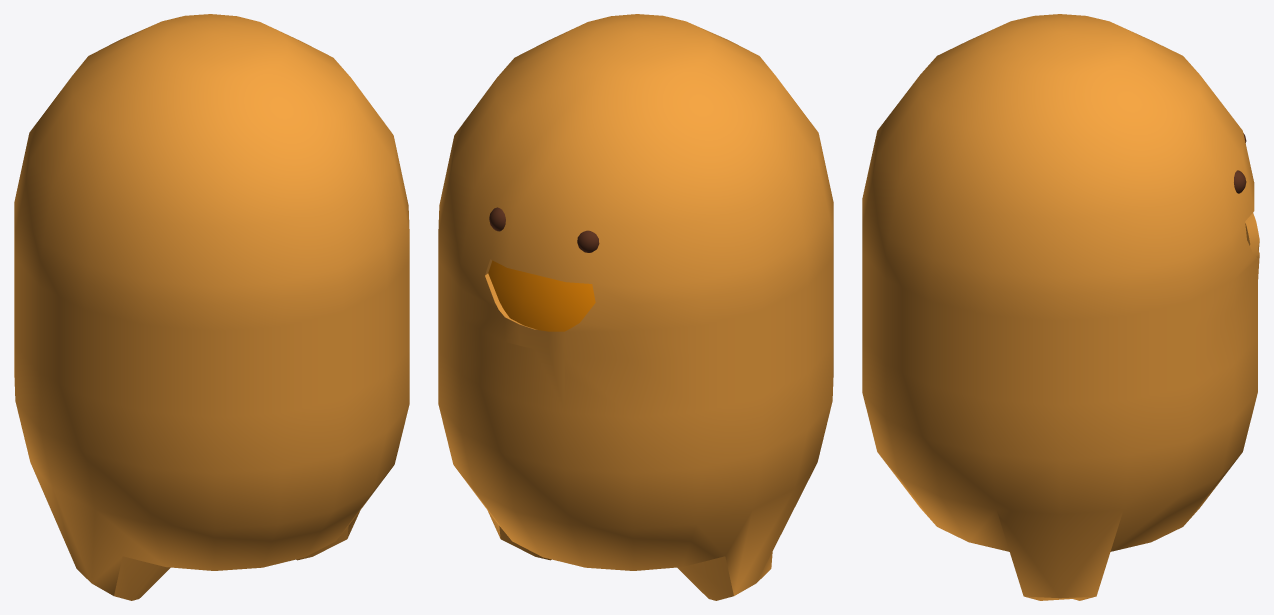
The model's file is sino2.fbx.
3 renders of one model, left to right at view 1: azimuth 30°, elevation 25°; view 2: azimuth 150°, elevation 25°; view 3: azimuth 270°, elevation 25°, orthographic. The views are drawn at different scales.
Parts seen in each view (by area): view 1: Capsule; view 2: Capsule, 구; view 3: Capsule.
Part boxes in pixels (x1,y1,x2,y2): Capsule: [14, 14, 409, 600]; Capsule: [438, 14, 833, 600]; 구: [488, 260, 595, 331]; Capsule: [862, 14, 1259, 600].
Size of the model in its own units: 17.7 by 26.66 by 18.14.
